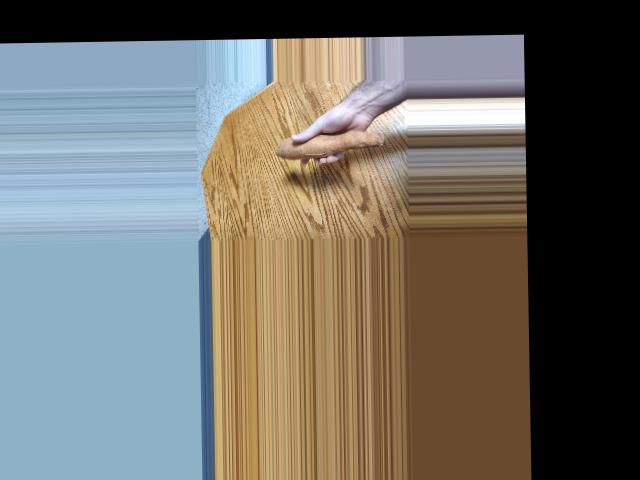sweet_potato: (269, 124, 386, 159)
